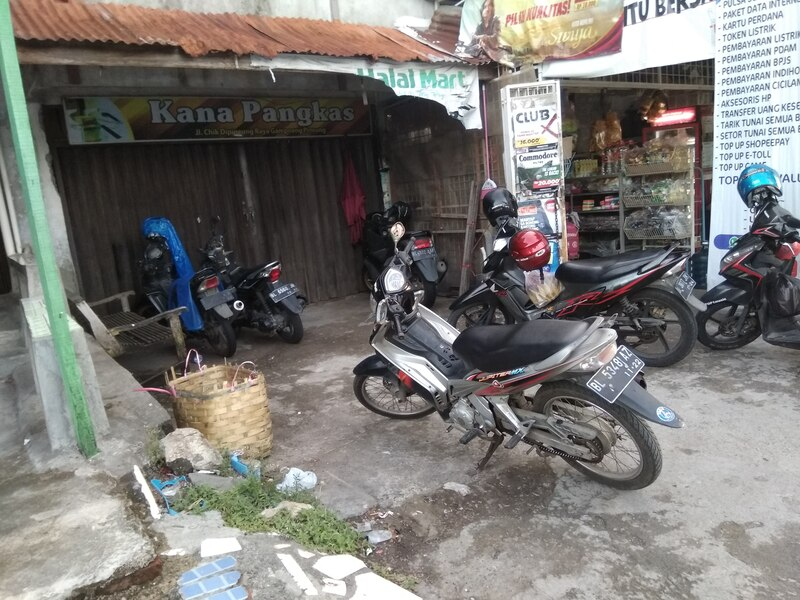motorcycle: (351, 217, 687, 497), (447, 205, 708, 372), (691, 186, 800, 359), (186, 214, 317, 350), (129, 239, 247, 361), (349, 208, 450, 316)
